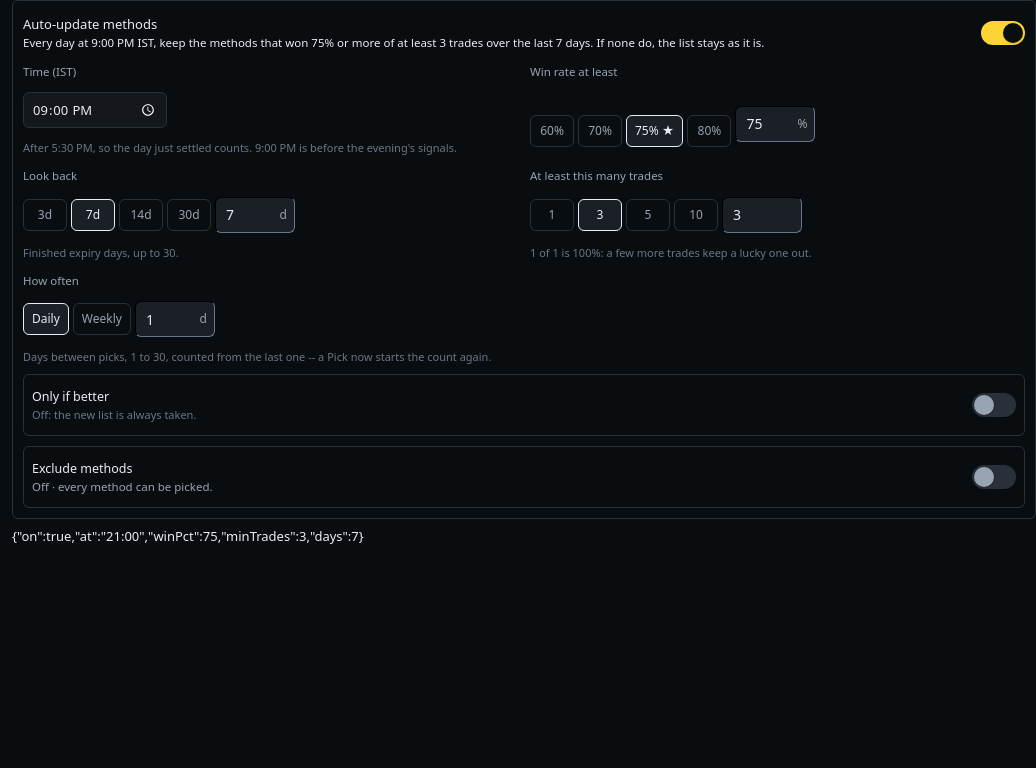
Test case: how often, and only if better (26 Oct 2026) › [critical] only if better: off to begin with; on, the sentence and the box say the list stays unless the new one made more
Click the switch named "Only if better". click: (990, 405)
box: [964,383,1016,427]
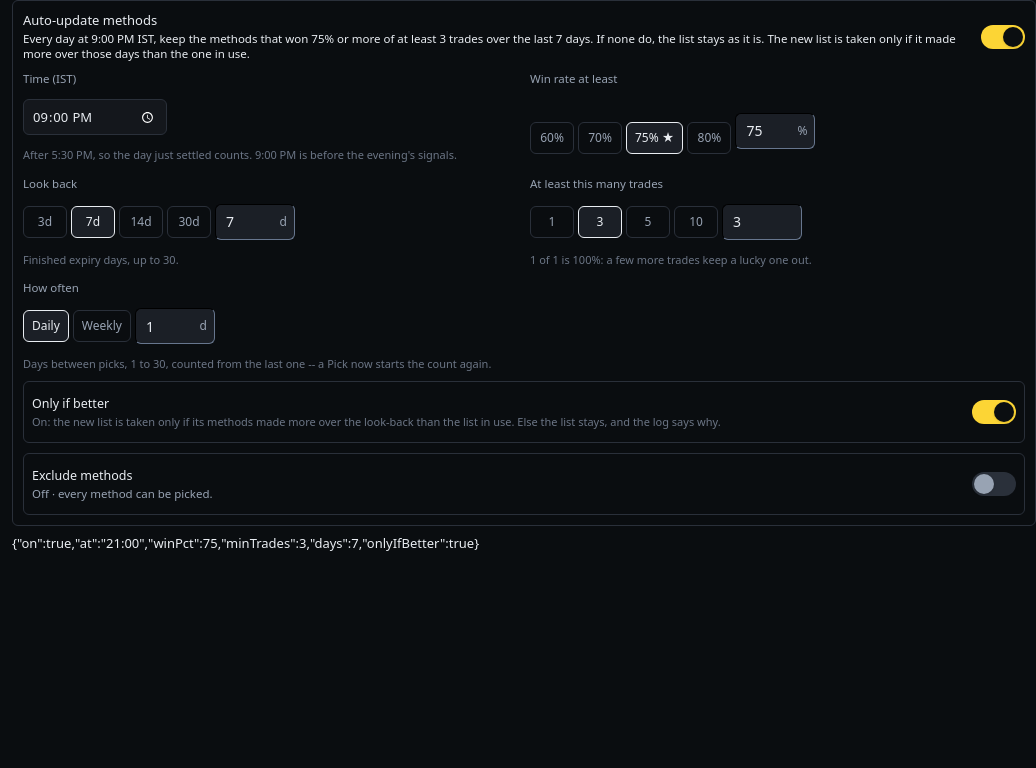
Expected: the text "On: the new list is taken only if its methods made more" is shown, [32,414,721,429]
